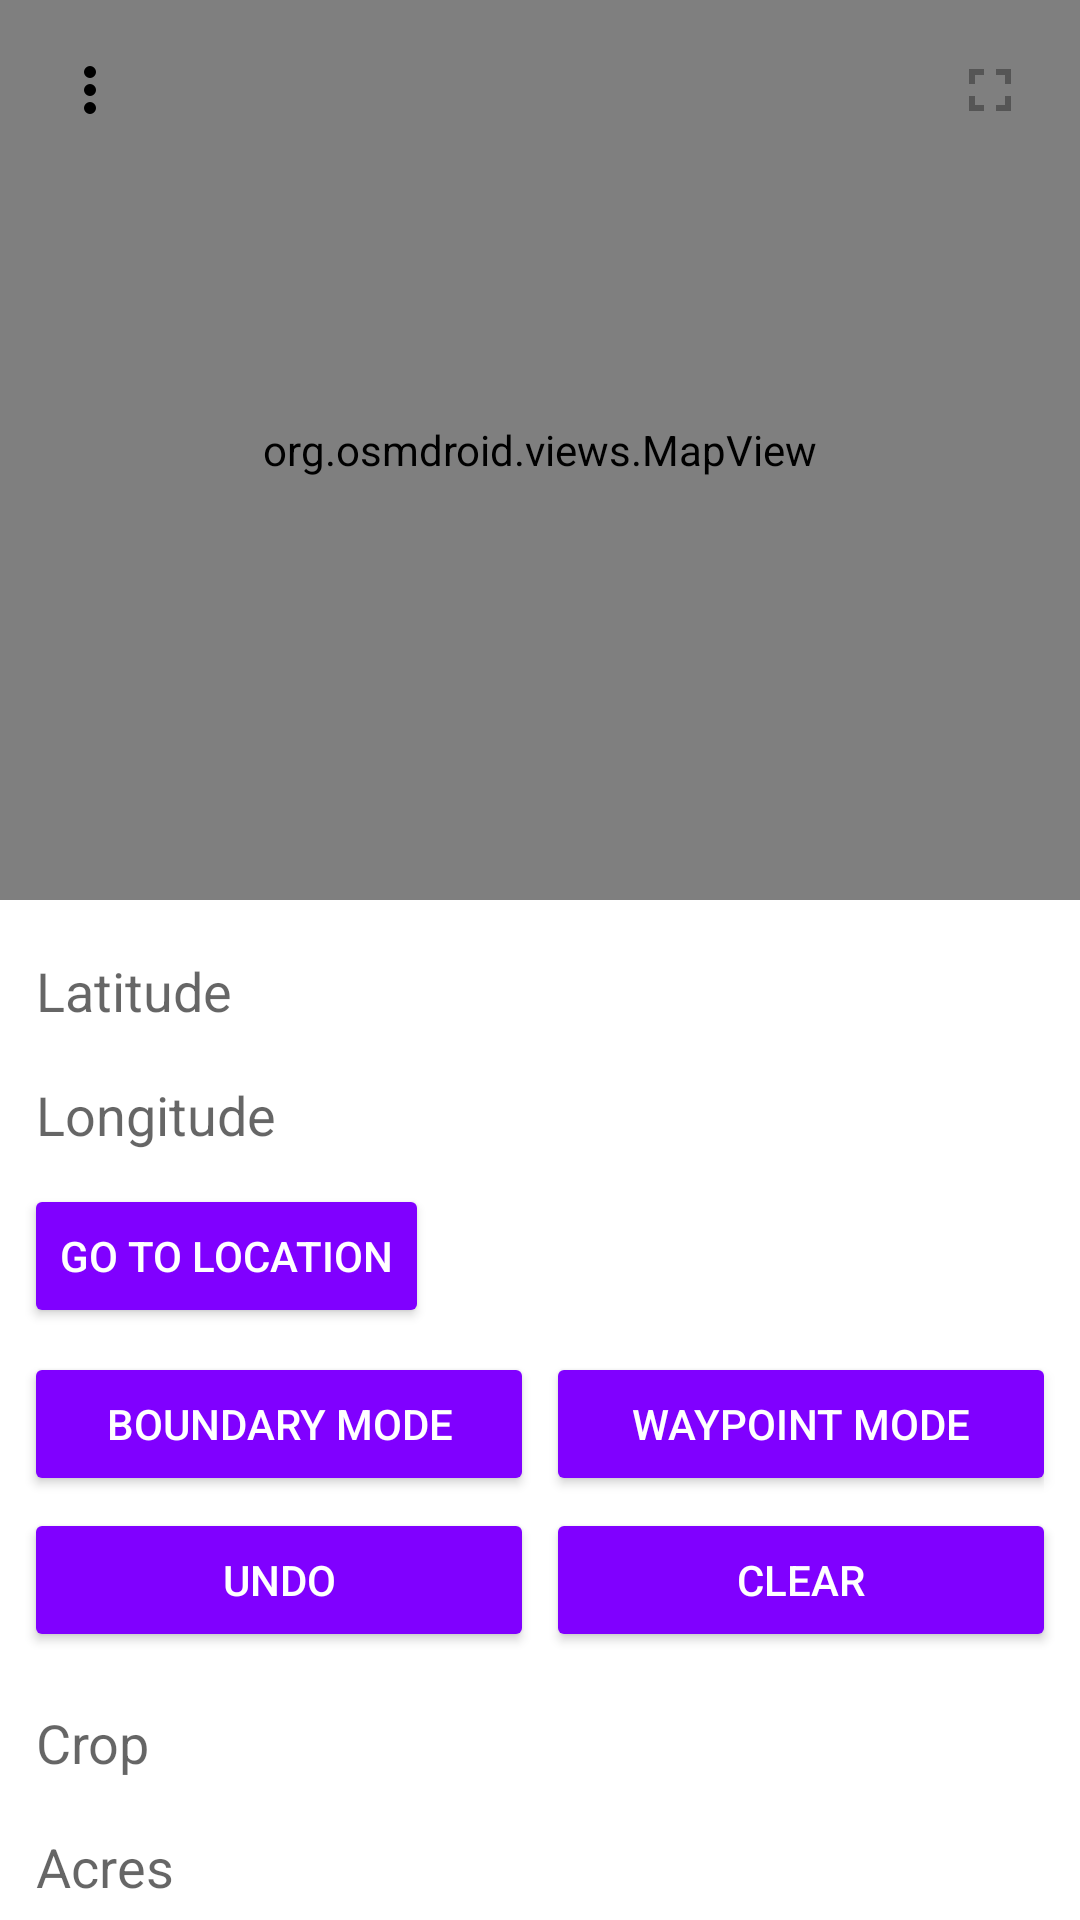

Where to tap for icons on this 1080*1920 app screen, as (x,y):
Fullscreen Map: (990,90)
More Options: (90,90)
